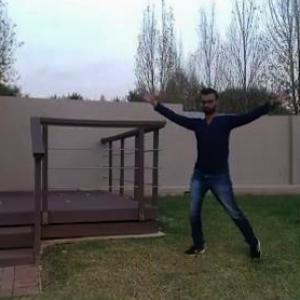takeoff: (149, 84, 299, 257)
